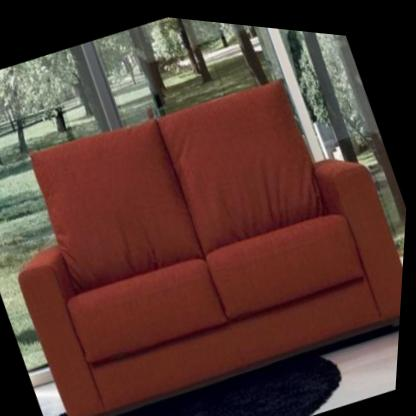Sofa: (0, 20, 415, 416)
